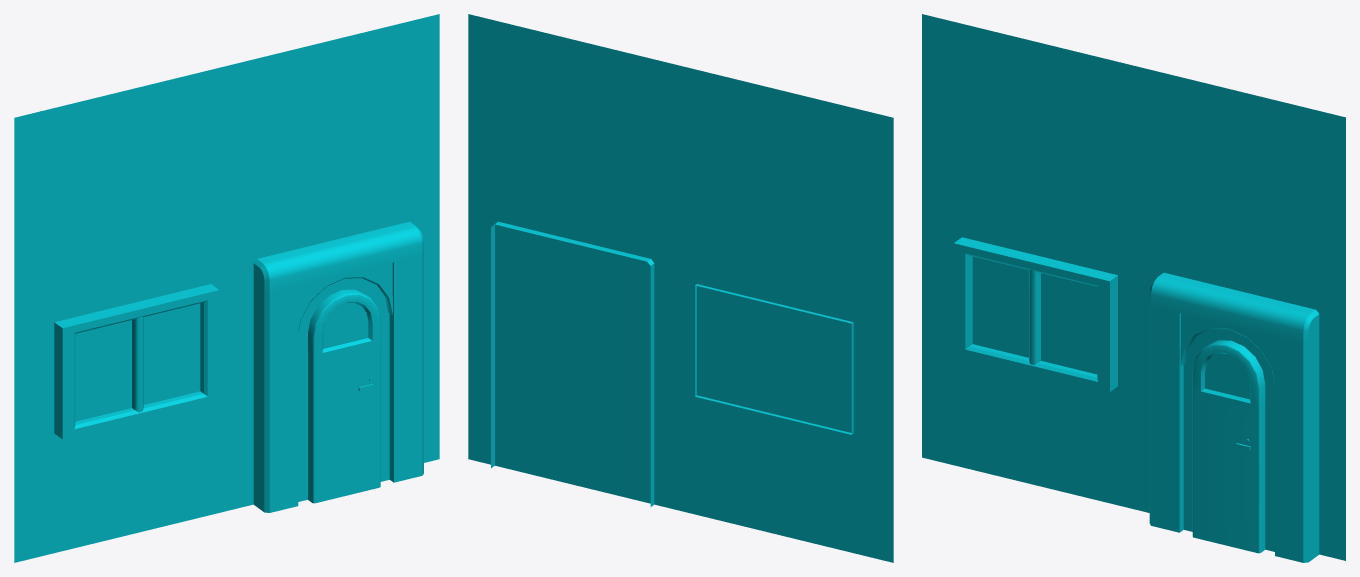
The model's file is H_Door_2.fbx.
3 views of the same model, side by side, from view 1: azimuth 30°, elevation 25°; view 2: azimuth 150°, elevation 25°; view 3: azimuth 330°, elevation 25° (orthographic).
Visible parts, largest first — view 1: H_Door_2; view 2: H_Door_2; view 3: H_Door_2.
Part boxes in pixels (x1,y1,x2,y2): H_Door_2: (14, 14, 439, 562); H_Door_2: (468, 14, 893, 562); H_Door_2: (922, 14, 1345, 562).
Bounding box in the file's own units: 4 × 4 × 0.3143.
